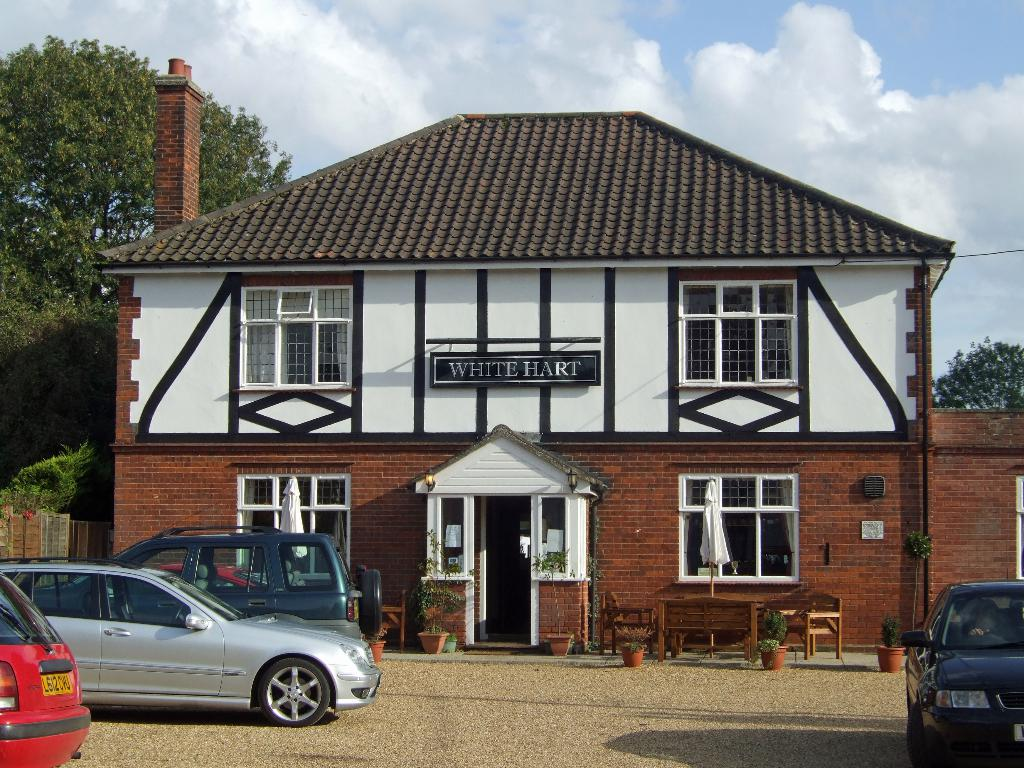Car: (31, 524, 368, 622), (899, 574, 1023, 767), (0, 567, 93, 767)
